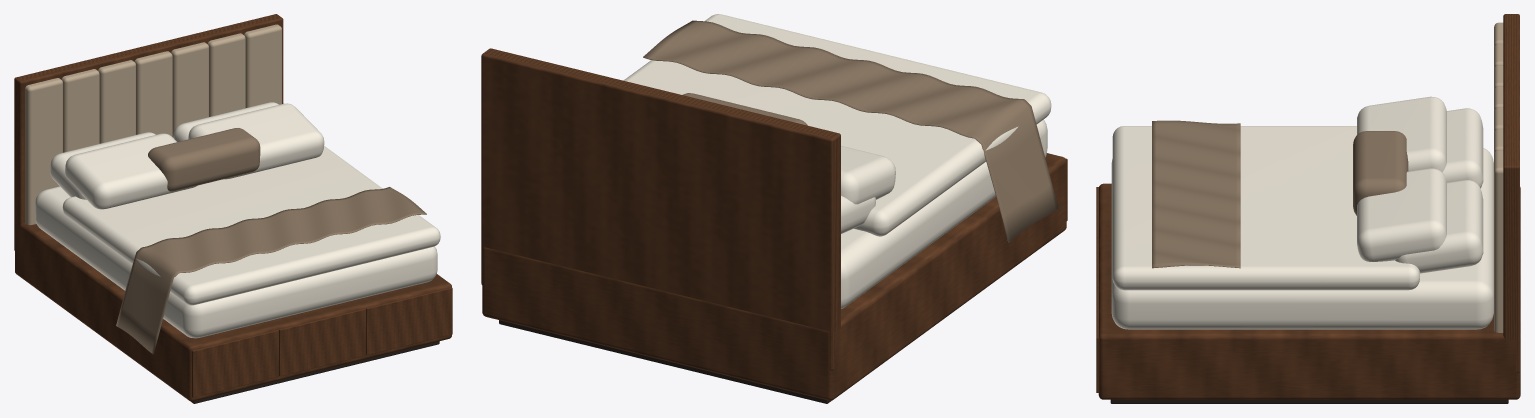
Rendered from astra-pilot--reference-walnut-bed.glb.
3 renders of one model, left to right at view 1: azimuth 30°, elevation 25°; view 2: azimuth 150°, elevation 25°; view 3: azimuth 270°, elevation 25°, orthographic. The views are drawn at different scales.
Parts seen in each view (by area): view 1: Rounded mattress, Walnut storage platform, Vertical upholstered headboard panel, Taupe lumbar cushion, Recessed base; view 2: Walnut storage platform, Rounded mattress, Taupe lumbar cushion, Recessed base; view 3: Rounded mattress, Walnut storage platform, Taupe lumbar cushion, Vertical upholstered headboard panel, Recessed base.
Part boxes in pixels (<box>): Rounded mattress: <box>35,102,440,338</box>; Walnut storage platform: <box>14,14,452,401</box>; Vertical upholstered headboard panel: <box>25,24,281,225</box>; Taupe lumbar cushion: <box>116,128,426,354</box>; Recessed base: <box>191,341,439,403</box>; Walnut storage platform: <box>481,48,1067,400</box>; Rounded mattress: <box>623,14,1051,308</box>; Taupe lumbar cushion: <box>643,20,1058,242</box>; Recessed base: <box>499,320,831,403</box>; Rounded mattress: <box>1111,96,1493,329</box>; Walnut storage platform: <box>1096,14,1520,399</box>; Taupe lumbar cushion: <box>1152,120,1408,268</box>; Vertical upholstered headboard panel: <box>1494,22,1503,332</box>; Recessed base: <box>1110,399,1508,403</box>.
Size of the model in its own units: 1.94 by 1.36 by 2.15.
5 materials, 1 textured.
